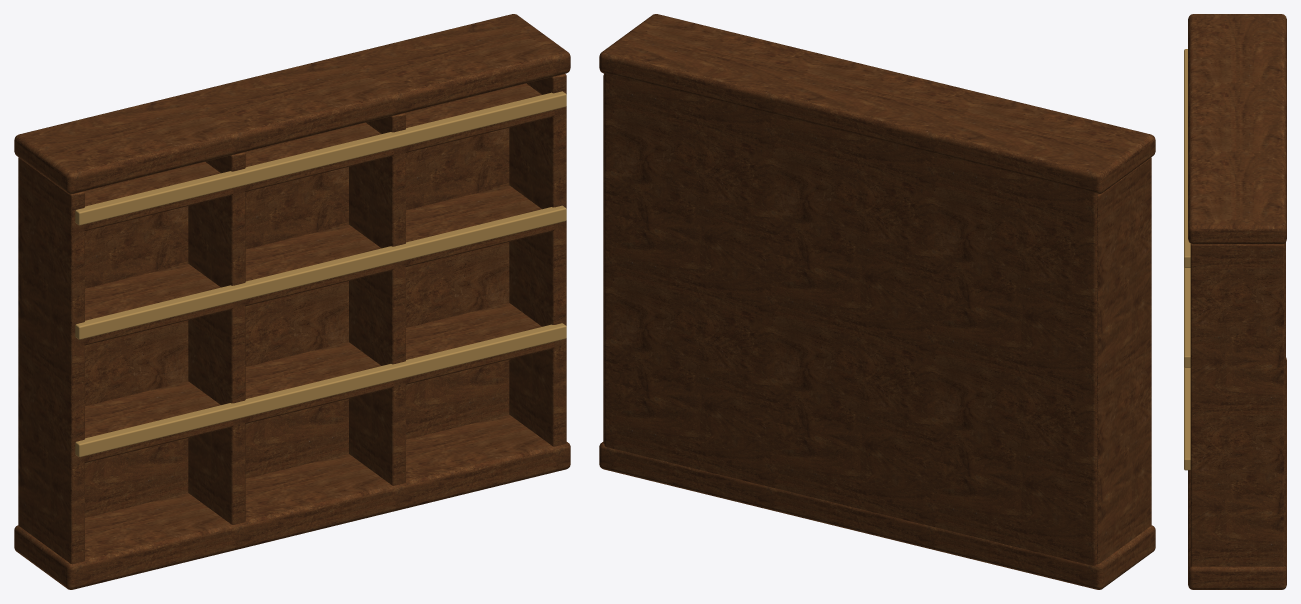
Rendered from willow_boot_cubby.glb.
3 renders of one model, left to right at view 1: azimuth 30°, elevation 25°; view 2: azimuth 150°, elevation 25°; view 3: azimuth 270°, elevation 25°, orthographic. The views are drawn at different scales.
Parts seen in each view (by area): view 1: willow_boot_cubby_willow_dark_oak_pbr, willow_boot_cubby_willow_worn_oak_pbr, willow_boot_cubby_willow_aged_brass_pbr; view 2: willow_boot_cubby_willow_dark_oak_pbr, willow_boot_cubby_willow_worn_oak_pbr; view 3: willow_boot_cubby_willow_dark_oak_pbr, willow_boot_cubby_willow_worn_oak_pbr, willow_boot_cubby_willow_aged_brass_pbr.
Part boxes in pixels (box(x1,y1,x2,y2)): willow_boot_cubby_willow_dark_oak_pbr: box(18, 74, 566, 564); willow_boot_cubby_willow_worn_oak_pbr: box(14, 14, 570, 589); willow_boot_cubby_willow_aged_brass_pbr: box(75, 91, 566, 457); willow_boot_cubby_willow_dark_oak_pbr: box(603, 73, 1151, 565); willow_boot_cubby_willow_worn_oak_pbr: box(599, 14, 1155, 589); willow_boot_cubby_willow_dark_oak_pbr: box(1190, 242, 1285, 566); willow_boot_cubby_willow_worn_oak_pbr: box(1188, 14, 1286, 589); willow_boot_cubby_willow_aged_brass_pbr: box(1184, 49, 1190, 470).
Bounding box in the file's own units: 3.14 × 2.49 × 0.635.
Materials: 3 (2 with a texture image).
